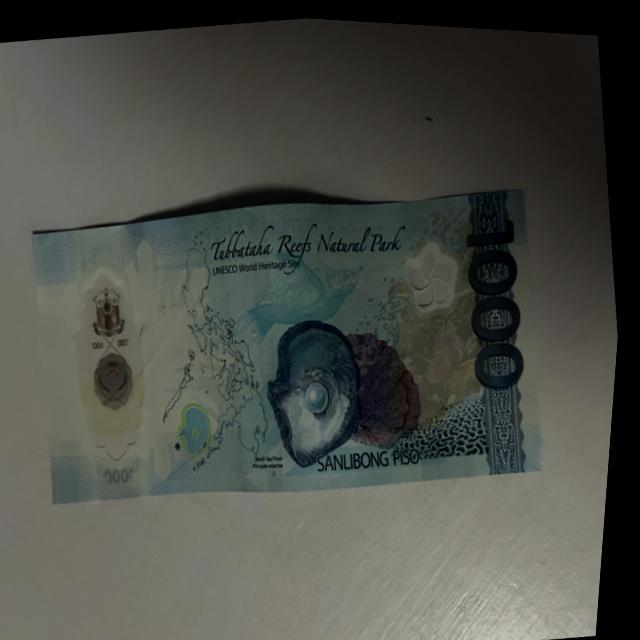clear_window: (56, 242, 176, 491)
sampaguita: (397, 221, 475, 322)
value: (454, 200, 544, 393)
